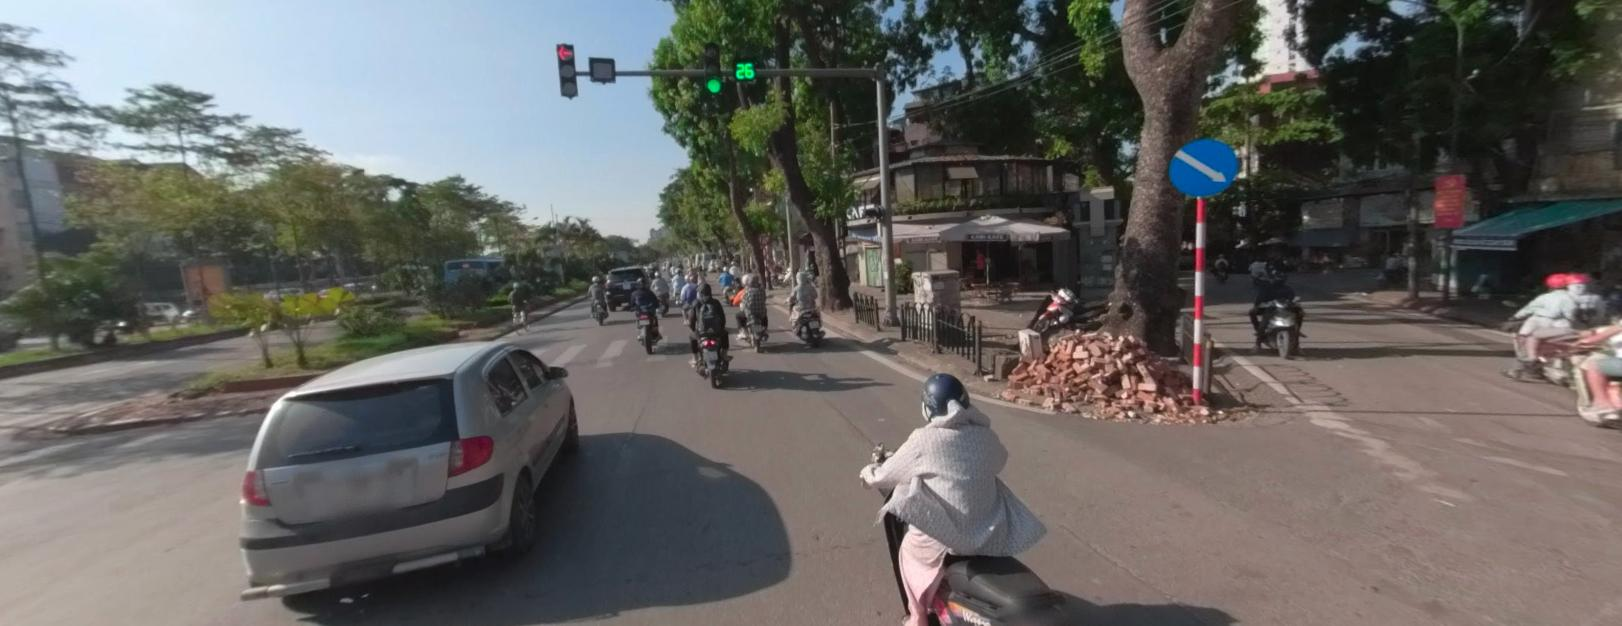Cam con lai: (1166, 134, 1238, 199)
